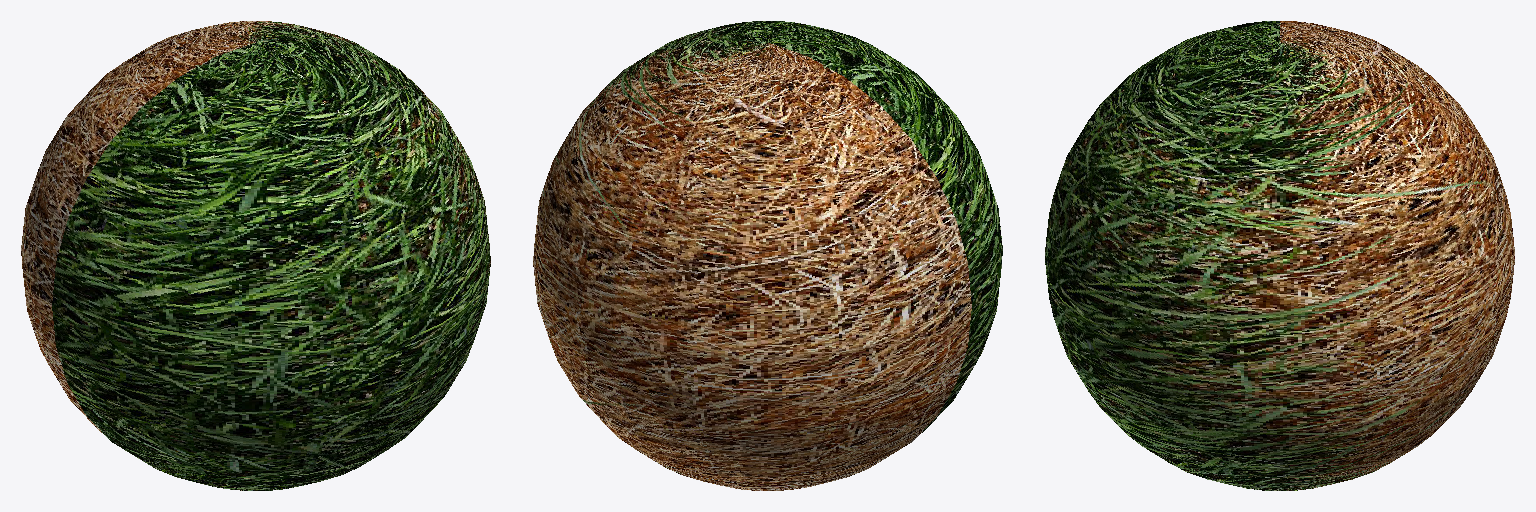
The picture shows the model from 3 angles: view 1: azimuth 30°, elevation 25°; view 2: azimuth 150°, elevation 25°; view 3: azimuth 270°, elevation 25°; orthographic projection.
Visible parts, largest first — view 1: Sphere25; view 2: Sphere25; view 3: Sphere25.
Boxes of the visible parts, x1,y1,x2,y2 form: Sphere25: [21, 21, 490, 490]; Sphere25: [533, 21, 1002, 490]; Sphere25: [1045, 21, 1514, 490].
Bounding box in the file's own units: 2 × 2 × 2.
1 materials, 1 textured.